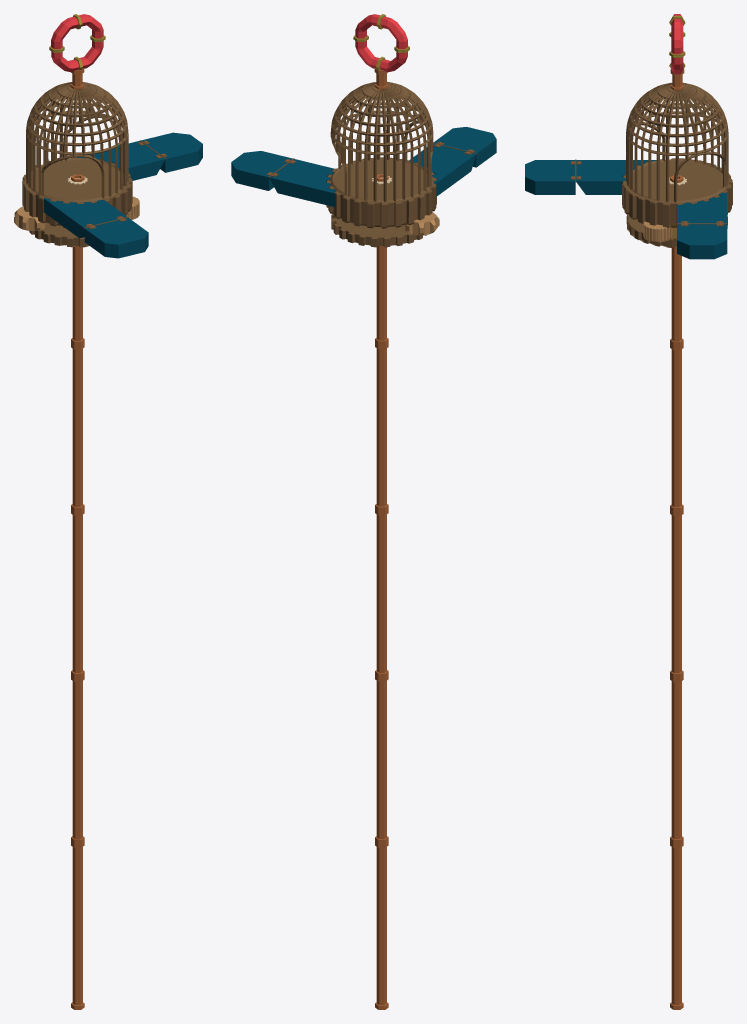
File: BridgeV2.fbx
3 views of the same model, side by side, from view 1: azimuth 30°, elevation 25°; view 2: azimuth 150°, elevation 25°; view 3: azimuth 270°, elevation 25° (orthographic).
Visible parts, largest first — view 1: Bridge.003, BridgeLeftPath.001, BridgeRightPath.001, Gear2.001; view 2: Bridge.003, BridgeRightPath.001, BridgeLeftPath.001; view 3: Bridge.003, BridgeRightPath.001, BridgeLeftPath.001, Gear1.001.
Part boxes in pixels (bbox=[...]): Bridge.003: bbox=[22, 14, 165, 1009]; BridgeLeftPath.001: bbox=[84, 218, 148, 258]; BridgeRightPath.001: bbox=[141, 132, 202, 172]; Gear2.001: bbox=[14, 206, 49, 230]; Bridge.003: bbox=[268, 14, 476, 1009]; BridgeRightPath.001: bbox=[231, 151, 292, 190]; BridgeLeftPath.001: bbox=[433, 127, 496, 167]; Bridge.003: bbox=[575, 14, 732, 1009]; BridgeRightPath.001: bbox=[677, 223, 727, 259]; BridgeLeftPath.001: bbox=[525, 160, 575, 194]; Gear1.001: bbox=[643, 221, 672, 242].
Bounding box in the file's own units: 43.3 × 216 × 41.06.
